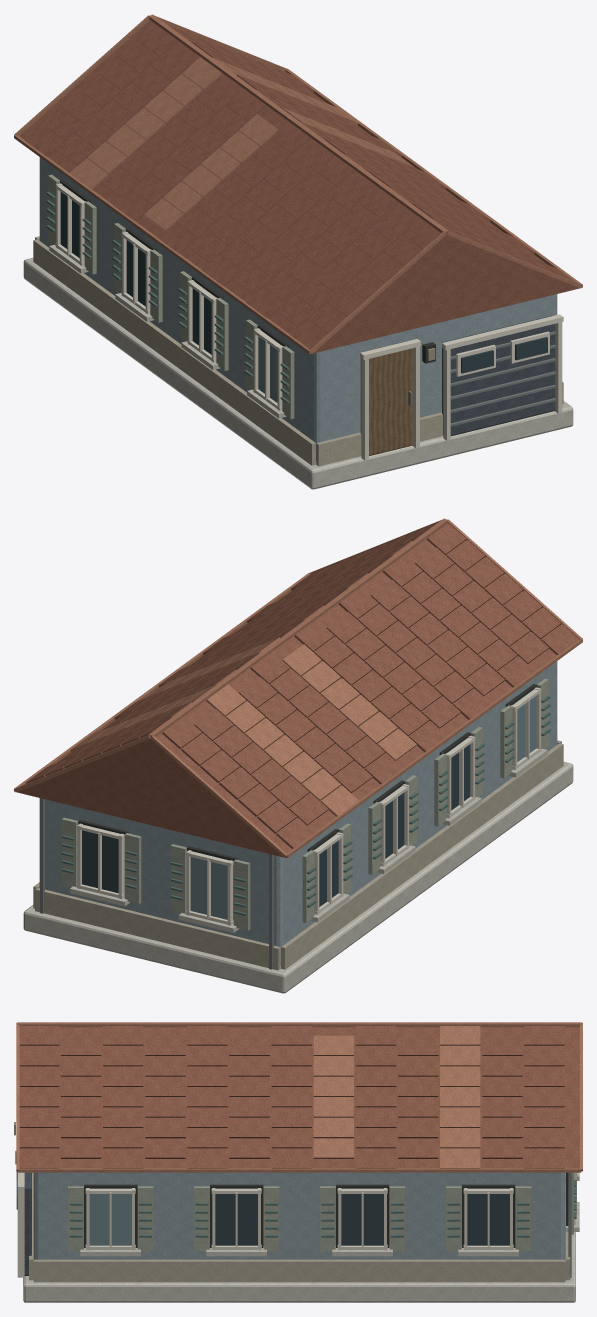
File: RES_LOW_1x2_006.glb
3 renders of one model, top to bottom at view 1: azimuth 30°, elevation 25°; view 2: azimuth 150°, elevation 25°; view 3: azimuth 270°, elevation 25°, orthographic. The views are drawn at different scales.
Parts seen in each view (by area): view 1: RES_LOW_1x2_006_Visual; view 2: RES_LOW_1x2_006_Visual; view 3: RES_LOW_1x2_006_Visual.
Boxes of the visible parts, x1,y1,x2,y2 form: RES_LOW_1x2_006_Visual: (14, 14, 582, 489); RES_LOW_1x2_006_Visual: (14, 518, 582, 993); RES_LOW_1x2_006_Visual: (14, 1022, 582, 1302).
Size of what is drawn, in the model's own units: 1.72 by 1.38 by 3.24.
Materials: 15 (9 with a texture image).
